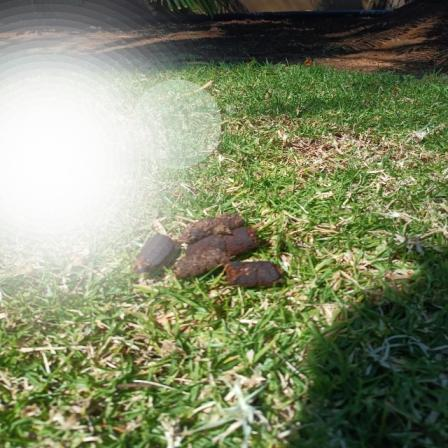dog-poop: (140, 216, 284, 295)
